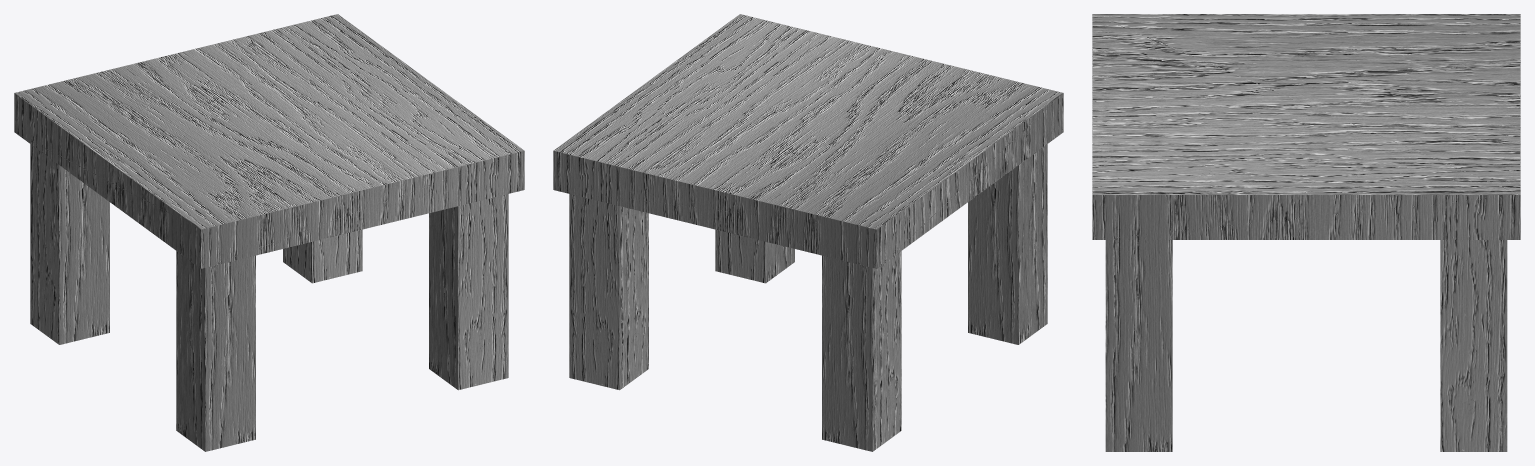
File: table.glb
The picture shows the model from 3 angles, left to right: view 1: azimuth 30°, elevation 25°; view 2: azimuth 150°, elevation 25°; view 3: azimuth 270°, elevation 25°; orthographic projection. The views are drawn at different scales.
Parts seen in each view (by area): view 1: Cube; view 2: Cube; view 3: Cube.
Part boxes in pixels (x1,y1,x2,y2): Cube: (14, 14, 524, 451); Cube: (553, 14, 1063, 451); Cube: (1092, 14, 1520, 451).
Size of the model in its own units: 1.02 by 0.69 by 1.02.
Materials: 1 (1 with a texture image).
